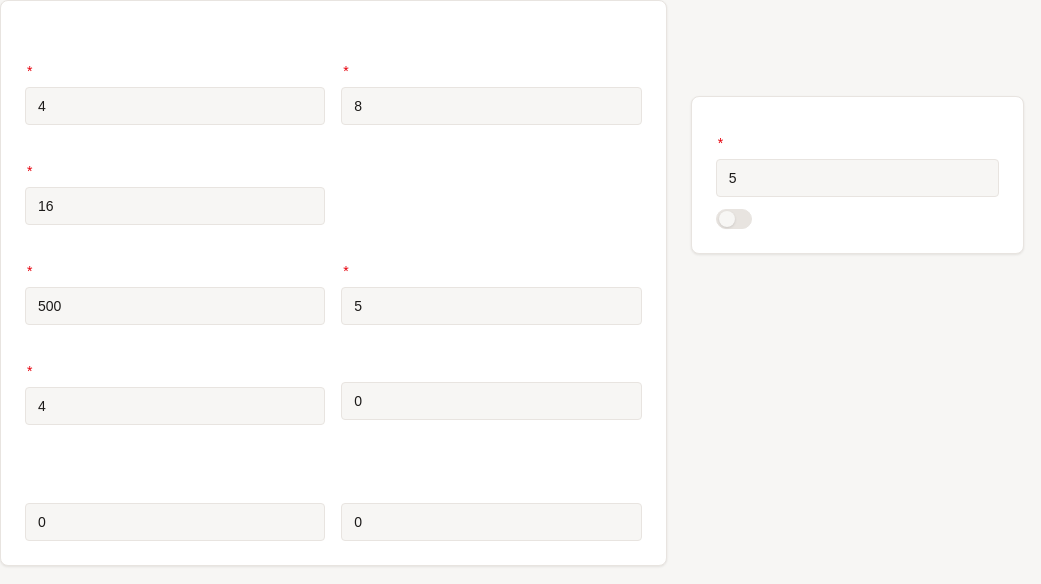
Test: PolicyForm unlimited quota and GiB memory › switching Unlimited off restores the last positive value
Step 1. Click the switch → (734,219), box [716,209,752,229]
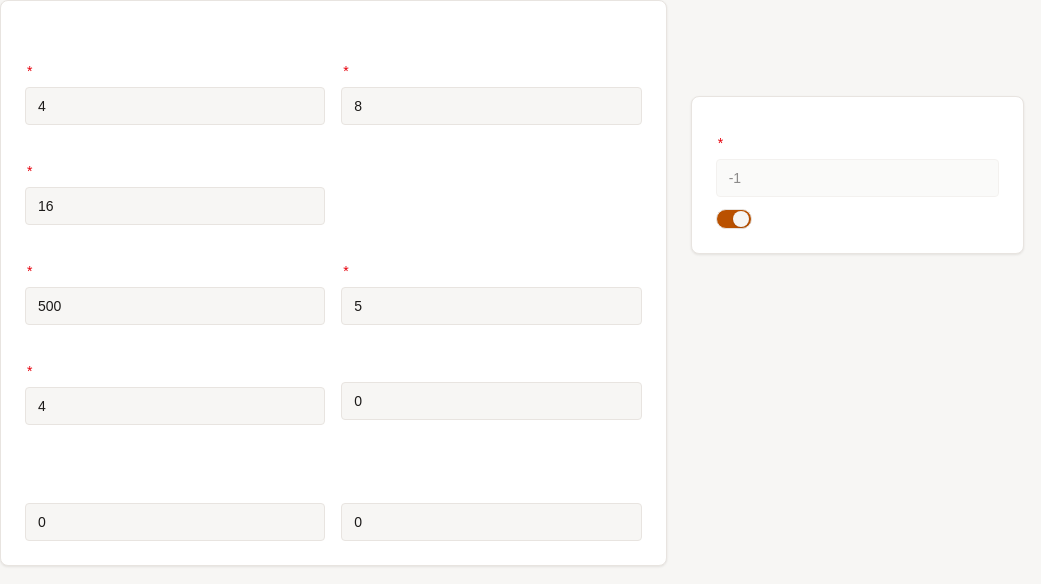
Step 2. Click the switch → (734,219), box [716,209,752,229]
Wait 700 ms
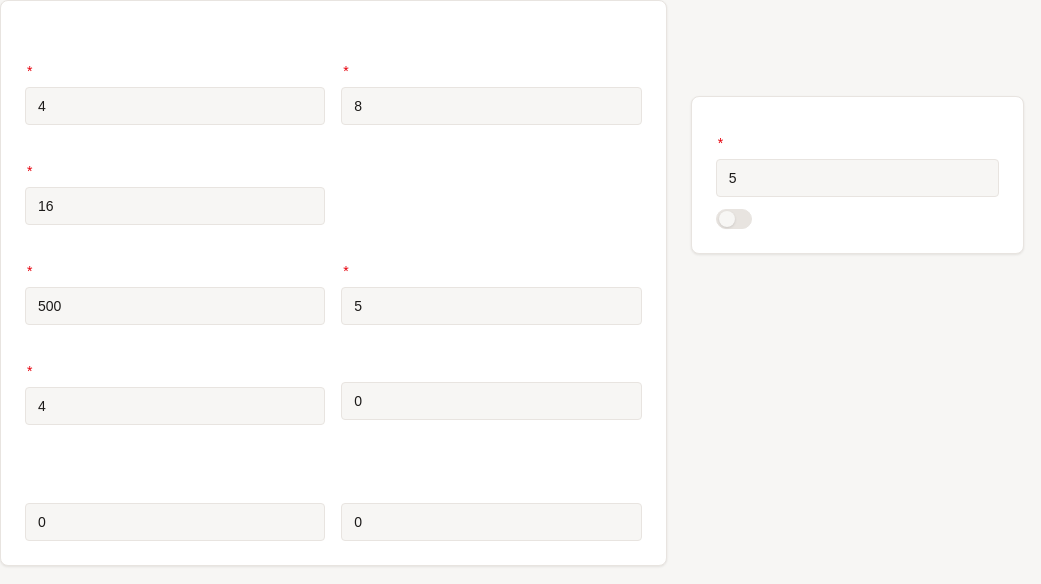
Expected: the 3rd number field labelled "*" is enabled, [716,159,999,197]
Expected: the 3rd number field labelled "*" holds "5", [716,159,999,197]
